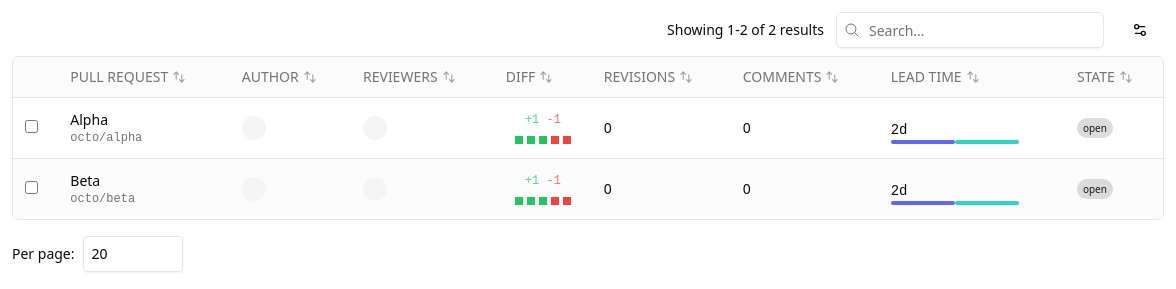
Scenario: search filter works
Type "beta" into the field with placeholder "Search..." at [970, 30], box left=836, top=12, right=1104, bottom=48
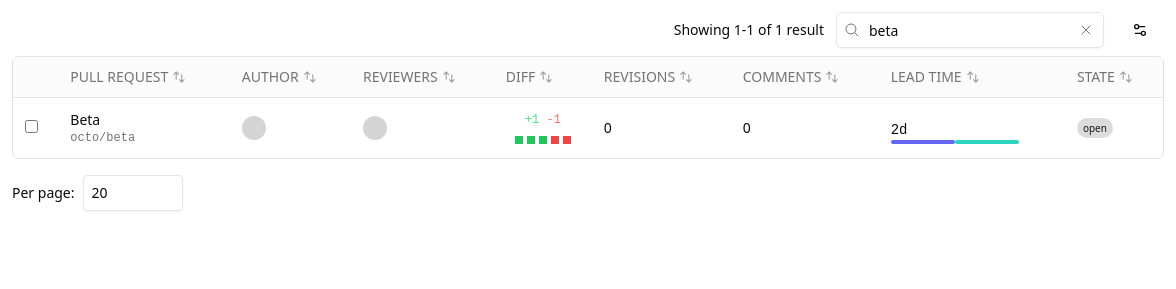
Expected: the link "Beta" is shown, left=70, top=110, right=100, bottom=128
Result: the link "Alpha" is gone
